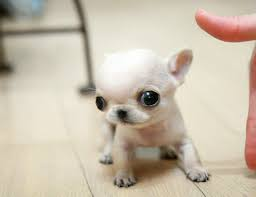chihuahua: (69, 42, 215, 187)
